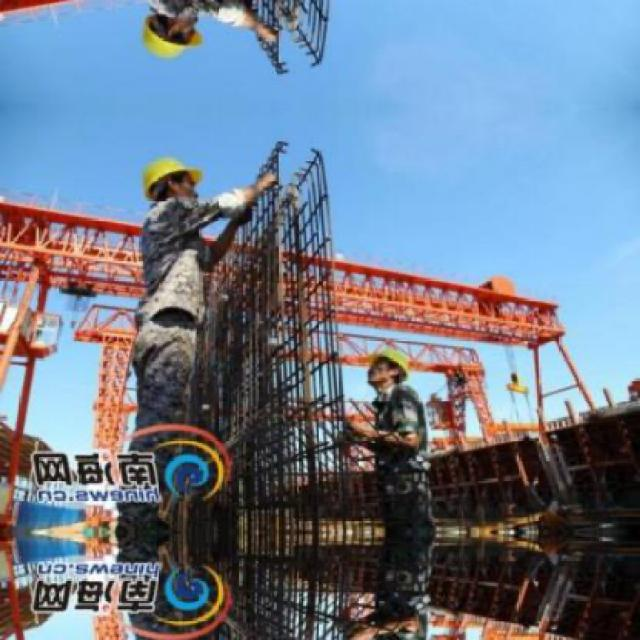helmet: (136, 152, 202, 206), (136, 8, 202, 62), (363, 342, 414, 391)
